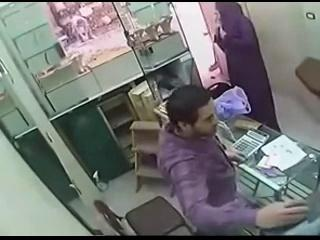Normal: (156, 85, 310, 232), (94, 196, 195, 236), (230, 128, 270, 160)
